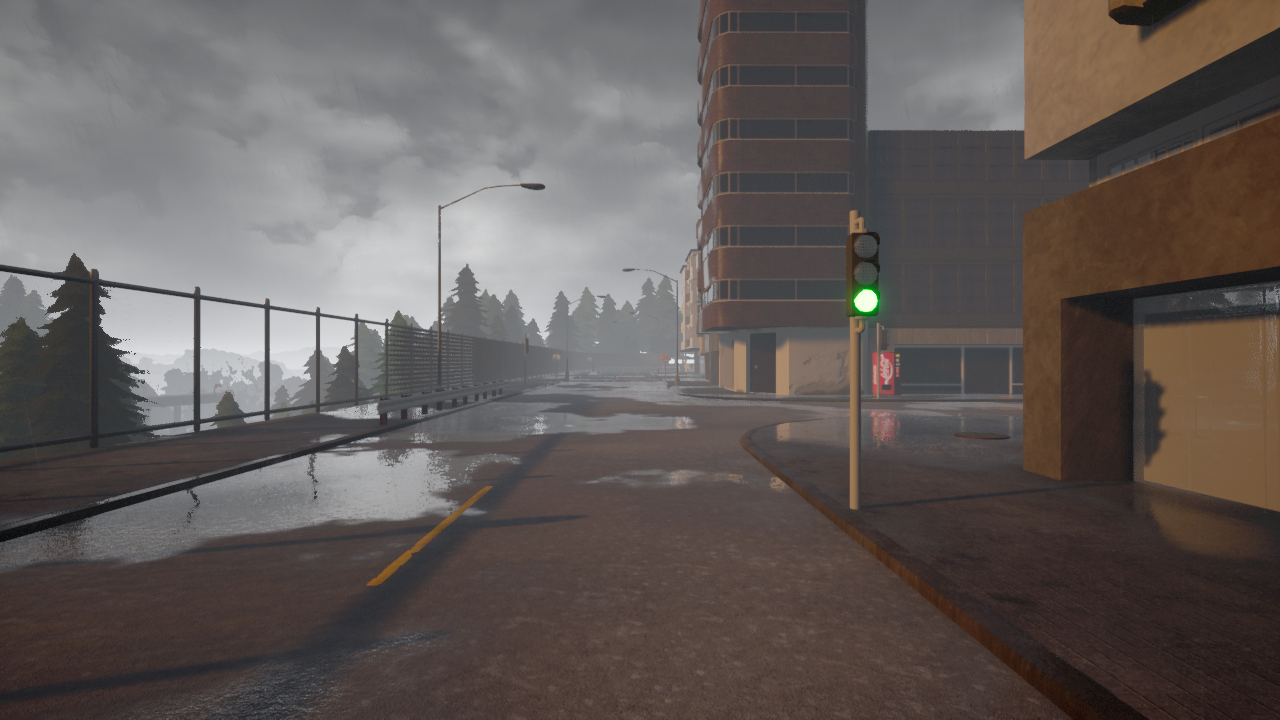green: (844, 230, 881, 321)
